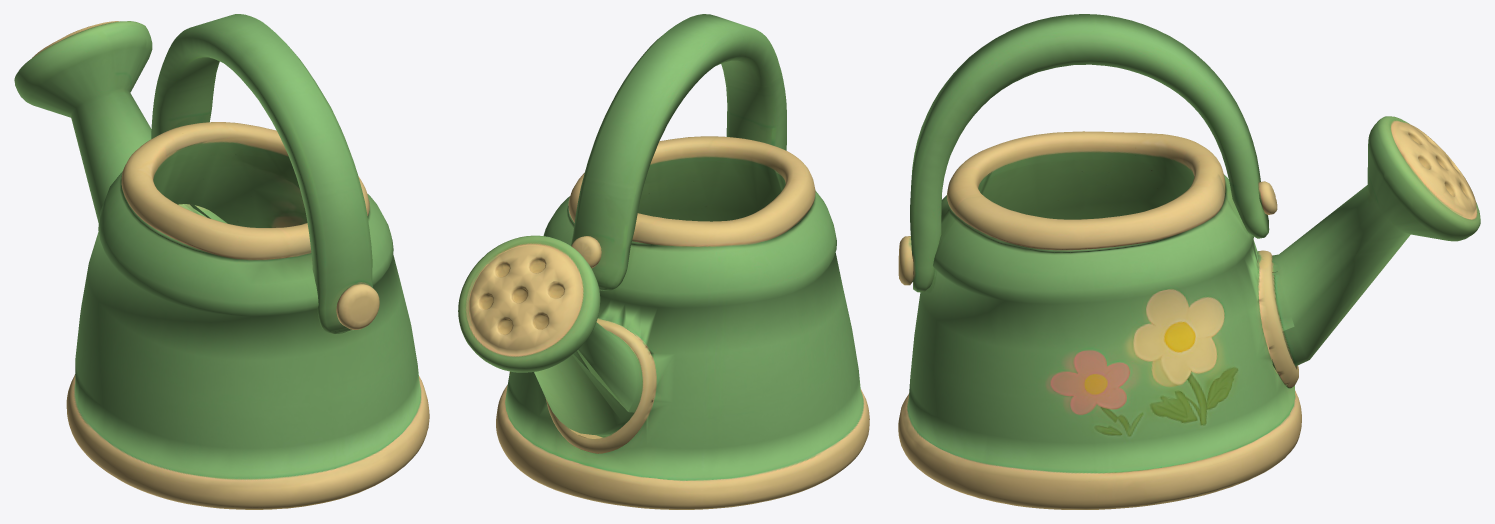
The model's file is T04_can.fbx.
The picture shows the model from 3 angles, left to right: view 1: azimuth 30°, elevation 25°; view 2: azimuth 150°, elevation 25°; view 3: azimuth 270°, elevation 25°; orthographic projection. The views are drawn at different scales.
Parts seen in each view (by area): view 1: tripo_node_4a4b7f38; view 2: tripo_node_4a4b7f38; view 3: tripo_node_4a4b7f38.
Boxes of the visible parts, box(x1,y1,x2,y2) form: tripo_node_4a4b7f38: box(14, 14, 429, 509); tripo_node_4a4b7f38: box(458, 14, 869, 509); tripo_node_4a4b7f38: box(898, 14, 1480, 509).
Size of the model in its own units: 0.6536 by 0.8198 by 1.03.
